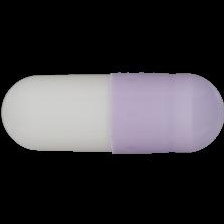0615-1343: (0, 0, 224, 224)
